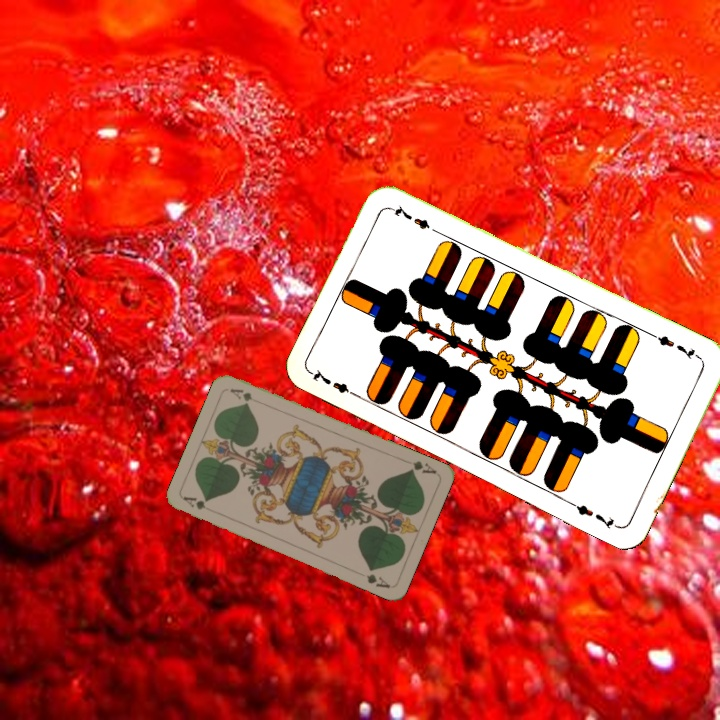E7: (307, 365, 363, 401), (648, 330, 704, 362)
GA: (400, 456, 439, 477), (180, 492, 208, 512)
